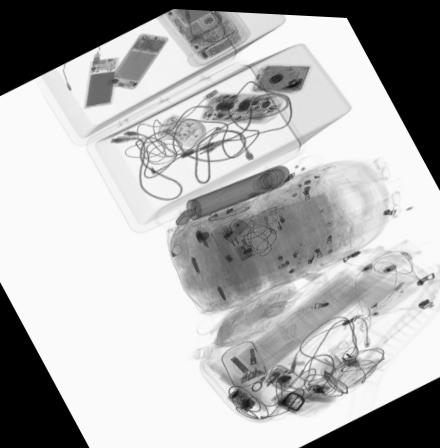Powerbank: (85, 54, 119, 105)
